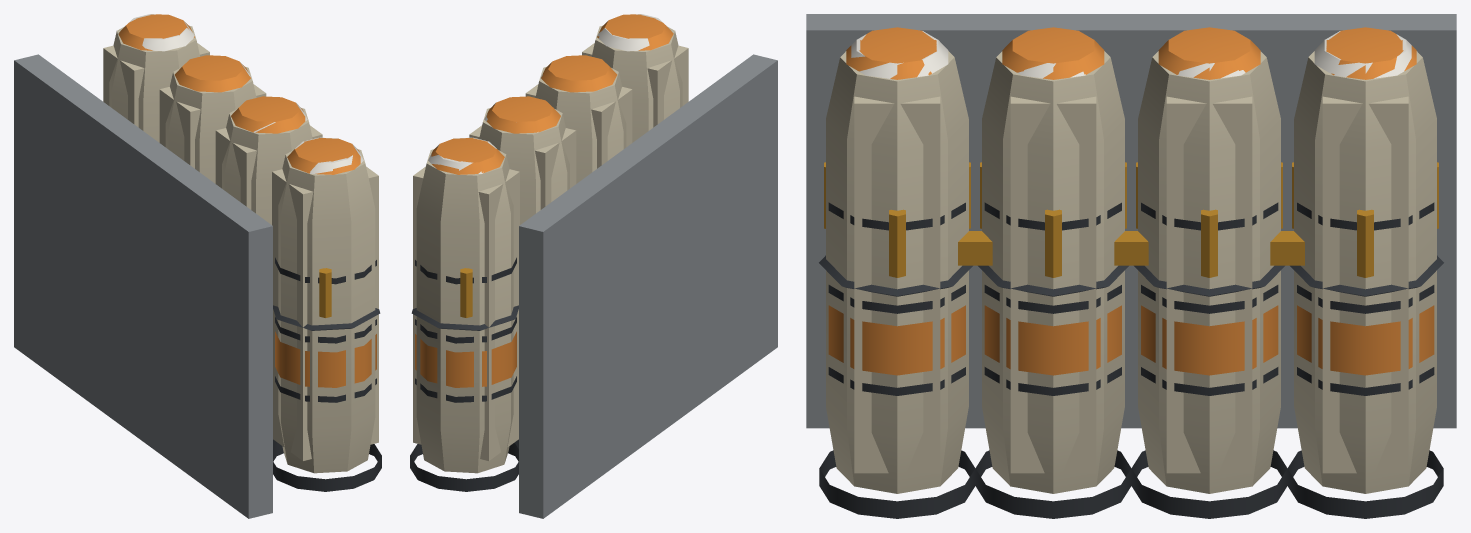
Rendered from chute_cluster_4.glb.
3 views of the same model, side by side, from view 1: azimuth 30°, elevation 25°; view 2: azimuth 150°, elevation 25°; view 3: azimuth 270°, elevation 25° (orthographic). The views are drawn at different scales.
Parts seen in each view (by area): view 1: body, slot_canopy, slot_canopy__parafoil, slot_canopy__ringsail, slot_canopy__ribbon, slot_reefing__staged; view 2: body, slot_canopy, slot_canopy__parafoil, slot_canopy__ringsail, slot_canopy__ribbon, slot_reefing__staged; view 3: slot_canopy, body, slot_canopy__parafoil, slot_canopy__ringsail, slot_canopy__ribbon, slot_reefing__staged.
Part boxes in pixels (bbox=[...]): body: bbox=[14, 54, 381, 518]; slot_canopy: bbox=[109, 14, 377, 473]; slot_canopy__parafoil: bbox=[103, 43, 378, 460]; slot_canopy__ringsail: bbox=[118, 14, 376, 387]; slot_canopy__ribbon: bbox=[273, 257, 380, 402]; slot_reefing__staged: bbox=[319, 268, 331, 317]; body: bbox=[410, 54, 777, 518]; slot_canopy: bbox=[414, 14, 682, 473]; slot_canopy__parafoil: bbox=[413, 43, 688, 460]; slot_canopy__ringsail: bbox=[415, 14, 673, 387]; slot_canopy__ribbon: bbox=[411, 257, 518, 402]; slot_reefing__staged: bbox=[460, 268, 472, 317]; slot_canopy: bbox=[823, 31, 1439, 493]; body: bbox=[806, 14, 1456, 518]; slot_canopy__parafoil: bbox=[854, 96, 1408, 473]; slot_canopy__ringsail: bbox=[828, 27, 1434, 375]; slot_canopy__ribbon: bbox=[819, 202, 1443, 395]; slot_reefing__staged: bbox=[824, 162, 1438, 277].
Bounding box in the file's own units: 0.4005 × 0.7525 × 1.
